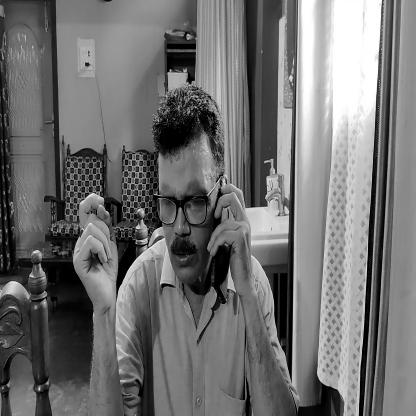Distracted: (152, 114, 216, 292)
